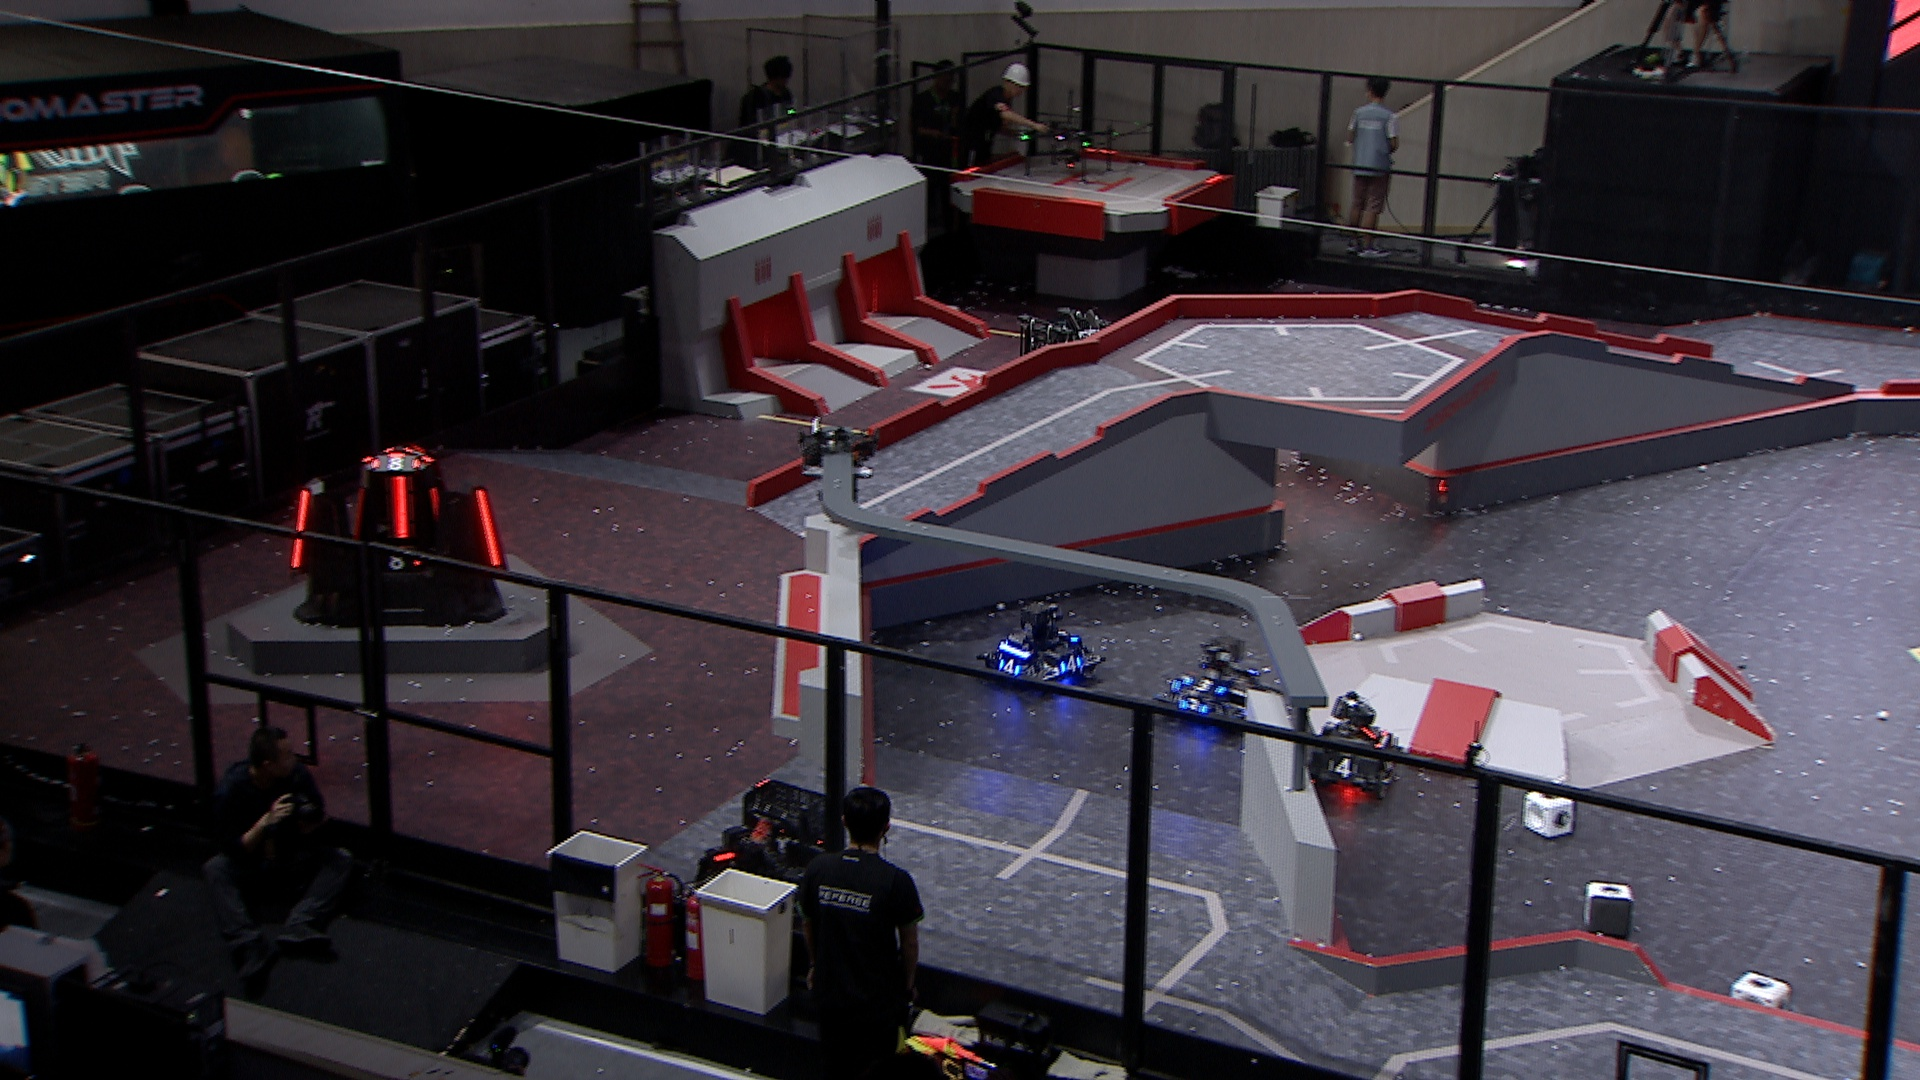armor: (473, 487, 501, 568), (386, 469, 413, 541), (290, 488, 313, 568), (371, 451, 422, 475), (1178, 676, 1226, 698), (349, 484, 367, 538), (1328, 756, 1360, 781), (1174, 694, 1211, 713), (385, 549, 419, 570), (1054, 651, 1083, 675), (1054, 626, 1081, 650), (998, 655, 1021, 676), (1379, 752, 1400, 773)
base: (281, 442, 505, 629)
car: (688, 778, 852, 927), (982, 597, 1109, 699), (1013, 305, 1130, 414), (1156, 629, 1280, 731), (1307, 688, 1404, 800)
watcher: (793, 415, 880, 506)
